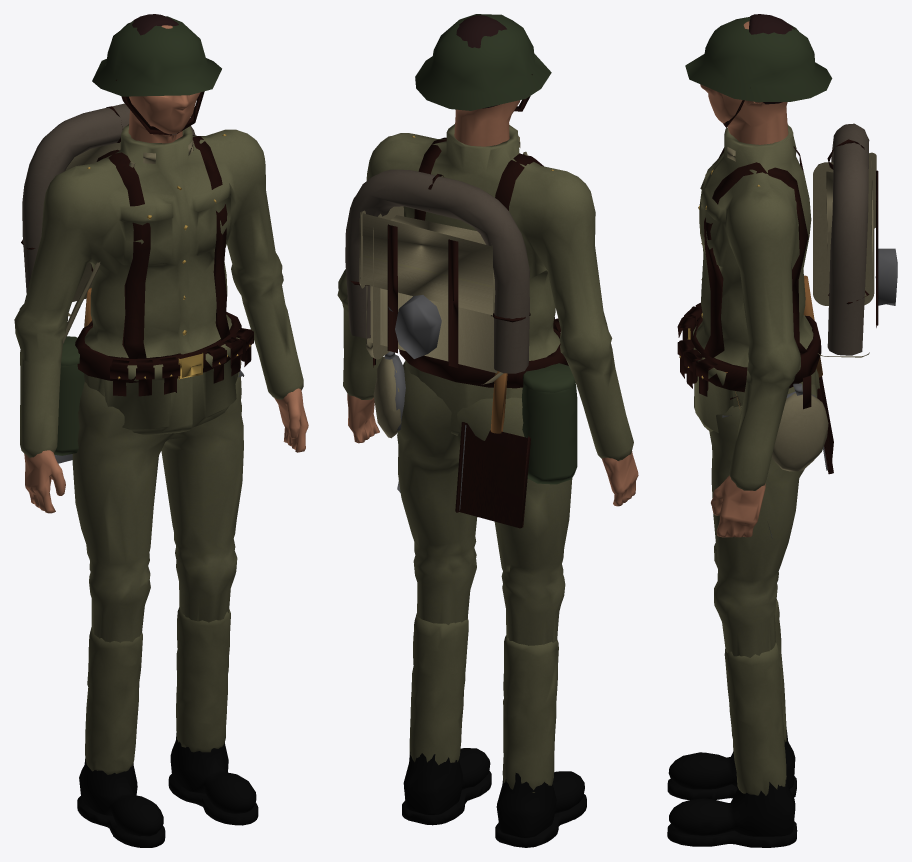
File: soldier_rifleman_lod1.glb
3 renders of one model, left to right at view 1: azimuth 30°, elevation 25°; view 2: azimuth 150°, elevation 25°; view 3: azimuth 270°, elevation 25°, orthographic. The views are drawn at different scales.
Visible parts, largest first — view 1: soldier_rifleman_tunic, soldier_rifleman_trousers, soldier_rifleman_puttee, soldier_rifleman_leather, soldier_rifleman_helmet, soldier_rifleman_boot, soldier_rifleman_skin, soldier_rifleman_blanket, soldier_rifleman_sole, soldier_rifleman_canvas, soldier_rifleman_brass, soldier_rifleman_hair; view 2: soldier_rifleman_tunic, soldier_rifleman_trousers, soldier_rifleman_canvas, soldier_rifleman_puttee, soldier_rifleman_helmet, soldier_rifleman_blanket, soldier_rifleman_leather, soldier_rifleman_boot, soldier_rifleman_skin, soldier_rifleman_steel, soldier_rifleman_sole, soldier_rifleman_hair (+1 smaller); view 3: soldier_rifleman_tunic, soldier_rifleman_trousers, soldier_rifleman_leather, soldier_rifleman_helmet, soldier_rifleman_blanket, soldier_rifleman_puttee, soldier_rifleman_boot, soldier_rifleman_canvas, soldier_rifleman_skin, soldier_rifleman_sole, soldier_rifleman_steel, soldier_rifleman_hair.
Part boxes in pixels (box(x1,y1,x2,y2)): soldier_rifleman_tunic: box(14, 124, 303, 457); soldier_rifleman_trousers: box(72, 372, 243, 642); soldier_rifleman_puttee: box(85, 607, 230, 774); soldier_rifleman_leather: box(21, 79, 253, 396); soldier_rifleman_helmet: box(54, 16, 221, 455); soldier_rifleman_boot: box(79, 733, 256, 836); soldier_rifleman_skin: box(24, 25, 308, 513); soldier_rifleman_blanket: box(22, 103, 195, 293); soldier_rifleman_sole: box(77, 774, 258, 847); soldier_rifleman_canvas: box(63, 140, 241, 368); soldier_rifleman_brass: box(87, 134, 250, 379); soldier_rifleman_hair: box(128, 14, 178, 35); soldier_rifleman_tunic: box(337, 124, 633, 460); soldier_rifleman_trousers: box(397, 361, 572, 645); soldier_rifleman_canvas: box(359, 136, 527, 438); soldier_rifleman_puttee: box(409, 613, 558, 792); soldier_rifleman_helmet: box(415, 14, 577, 484); soldier_rifleman_blanket: box(345, 169, 529, 373); soldier_rifleman_leather: box(350, 74, 568, 528); soldier_rifleman_boot: box(403, 748, 584, 837); soldier_rifleman_skin: box(347, 100, 638, 506); soldier_rifleman_steel: box(385, 295, 466, 510); soldier_rifleman_sole: box(402, 770, 586, 847); soldier_rifleman_hair: box(456, 15, 506, 108); soldier_rifleman_tunic: box(693, 124, 815, 490); soldier_rifleman_trousers: box(709, 369, 819, 657); soldier_rifleman_leather: box(677, 100, 878, 474); soldier_rifleman_helmet: box(685, 17, 832, 102); soldier_rifleman_blanket: box(827, 123, 869, 355); soldier_rifleman_puttee: box(724, 599, 786, 795); soldier_rifleman_boot: box(668, 727, 795, 836); soldier_rifleman_canvas: box(727, 147, 876, 471); soldier_rifleman_skin: box(700, 21, 788, 537); soldier_rifleman_sole: box(667, 776, 797, 847); soldier_rifleman_steel: box(722, 248, 897, 538); soldier_rifleman_hair: box(749, 14, 794, 104).
Size of the model in its own units: 0.6618 by 1.77 by 0.4646.
Materials: 16 (8 with a texture image).
